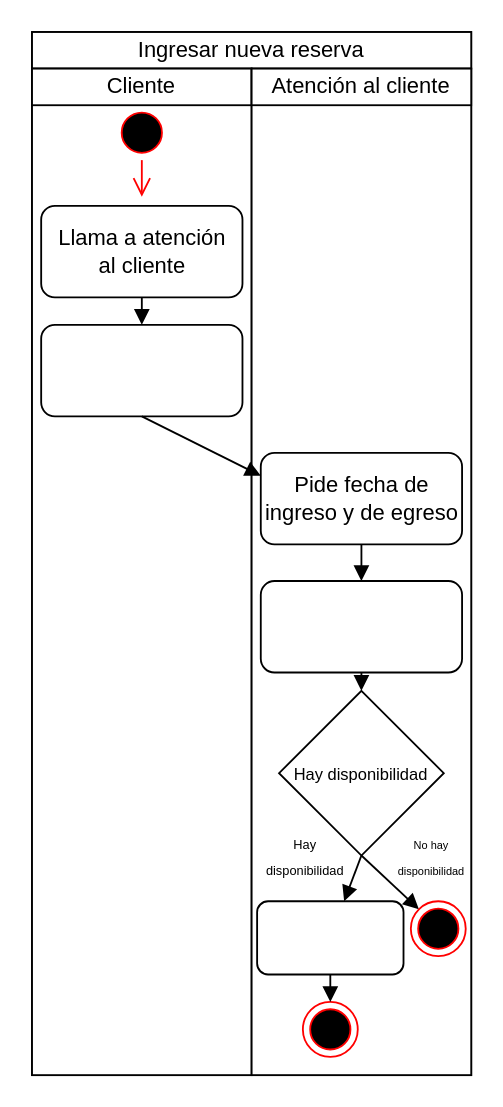
The diagram is 503 pixels wide and 1107 high, and some of its shapes have lost their labels. The box of each missing label's shape, as (x1, y1, x2, y2) in pixels:
Consulta por disponibilidad en la fecha dada: (259, 579, 462, 673)
Consulta por una reserva: (39, 323, 242, 416)
Solicita datos de reserva: (255, 899, 404, 974)
